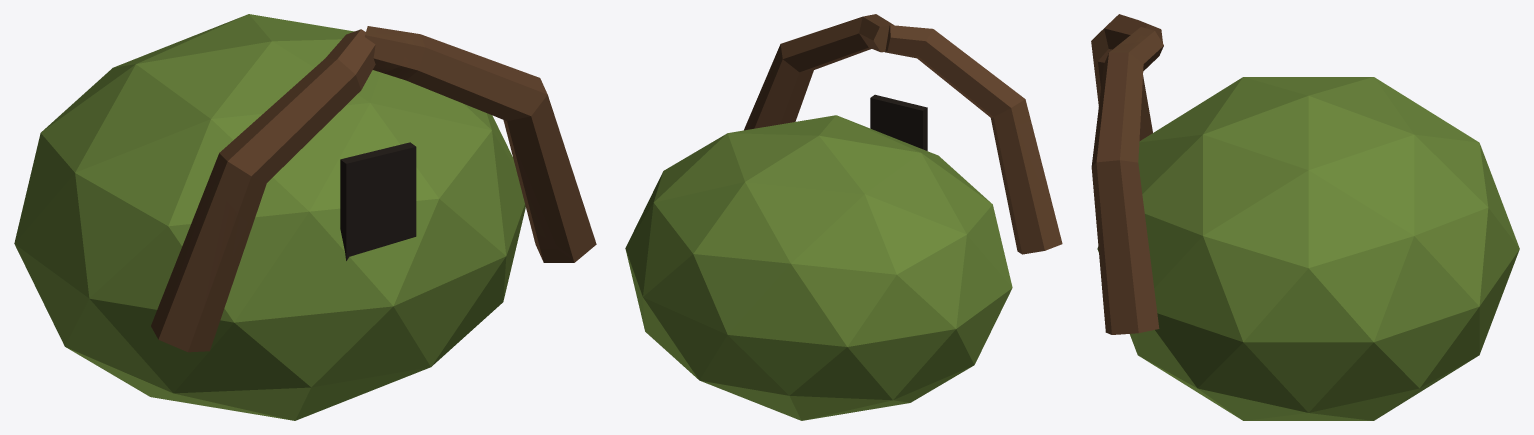
File: treekin_house_c_broken.glb
The picture shows the model from 3 angles, left to right: view 1: azimuth 30°, elevation 25°; view 2: azimuth 150°, elevation 25°; view 3: azimuth 270°, elevation 25°; orthographic projection. The views are drawn at different scales.
Visible parts, largest first — view 1: treekin_house_c_piece7, treekin_house_c_piece10, treekin_house_c_piece6, treekin_house_c_piece9, treekin_house_c_piece5, treekin_house_c_piece3, treekin_house_c_piece11, treekin_house_c_piece1, treekin_house_c_piece0, treekin_house_c_piece2, treekin_house_c_piece12; view 2: treekin_house_c_piece5, treekin_house_c_piece4, treekin_house_c_piece8, treekin_house_c_piece10, treekin_house_c_piece9, treekin_house_c_piece7, treekin_house_c_piece11, treekin_house_c_piece3, treekin_house_c_piece1, treekin_house_c_piece2; view 3: treekin_house_c_piece2, treekin_house_c_piece8, treekin_house_c_piece7, treekin_house_c_piece6, treekin_house_c_piece11, treekin_house_c_piece3, treekin_house_c_piece9, treekin_house_c_piece4, treekin_house_c_piece10, treekin_house_c_piece5, treekin_house_c_piece1.
Part boxes in pixels (x1,y1,x2,y2): treekin_house_c_piece7: [275, 30, 593, 329]; treekin_house_c_piece10: [73, 51, 299, 384]; treekin_house_c_piece6: [249, 120, 596, 403]; treekin_house_c_piece9: [174, 26, 407, 256]; treekin_house_c_piece5: [14, 41, 181, 397]; treekin_house_c_piece3: [199, 34, 436, 405]; treekin_house_c_piece11: [200, 20, 500, 142]; treekin_house_c_piece1: [108, 20, 274, 417]; treekin_house_c_piece0: [193, 387, 359, 420]; treekin_house_c_piece2: [338, 29, 525, 309]; treekin_house_c_piece12: [153, 19, 260, 395]; treekin_house_c_piece5: [783, 188, 1012, 412]; treekin_house_c_piece4: [682, 189, 862, 420]; treekin_house_c_piece8: [625, 149, 770, 372]; treekin_house_c_piece10: [835, 121, 1062, 283]; treekin_house_c_piece9: [813, 17, 1030, 184]; treekin_house_c_piece7: [744, 14, 927, 150]; treekin_house_c_piece11: [727, 123, 813, 180]; treekin_house_c_piece3: [790, 116, 878, 176]; treekin_house_c_piece1: [762, 175, 850, 210]; treekin_house_c_piece2: [627, 133, 739, 244]; treekin_house_c_piece2: [1187, 153, 1372, 420]; treekin_house_c_piece8: [1340, 123, 1498, 420]; treekin_house_c_piece7: [1091, 42, 1214, 325]; treekin_house_c_piece6: [1105, 175, 1223, 391]; treekin_house_c_piece11: [1199, 100, 1387, 269]; treekin_house_c_piece3: [1191, 91, 1372, 190]; treekin_house_c_piece9: [1091, 14, 1378, 144]; treekin_house_c_piece4: [1411, 124, 1519, 370]; treekin_house_c_piece10: [1094, 68, 1374, 141]; treekin_house_c_piece5: [1368, 77, 1457, 129]; treekin_house_c_piece1: [1372, 83, 1426, 125].
Bounding box in the file's own units: 2.51 × 2.36 × 2.44.
